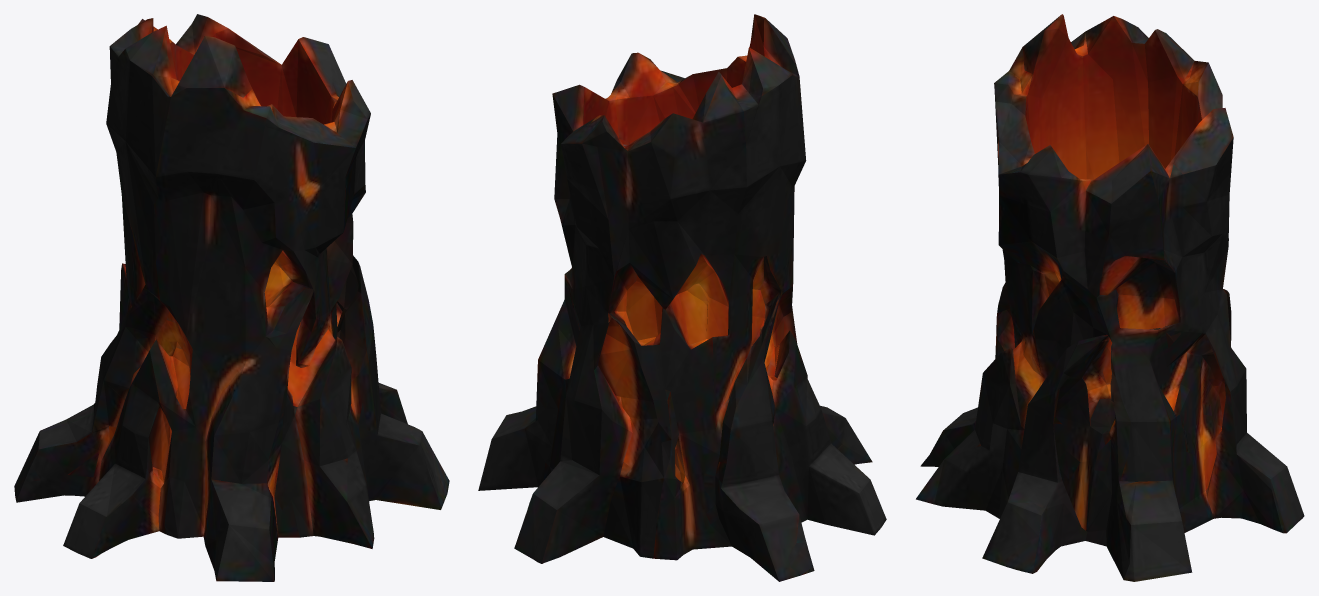
The model's file is d_braises_tronc_calcine.glb.
3 renders of one model, left to right at view 1: azimuth 30°, elevation 25°; view 2: azimuth 150°, elevation 25°; view 3: azimuth 270°, elevation 25°, orthographic. The views are drawn at different scales.
Parts seen in each view (by area): view 1: geometry_0; view 2: geometry_0; view 3: geometry_0.
Part boxes in pixels (<box>): geometry_0: <box>14,14,449,581</box>; geometry_0: <box>478,14,886,581</box>; geometry_0: <box>916,14,1304,581</box>.
Size of the model in its own units: 0.795 by 1 by 0.7719.
Materials: 1 (1 with a texture image).
